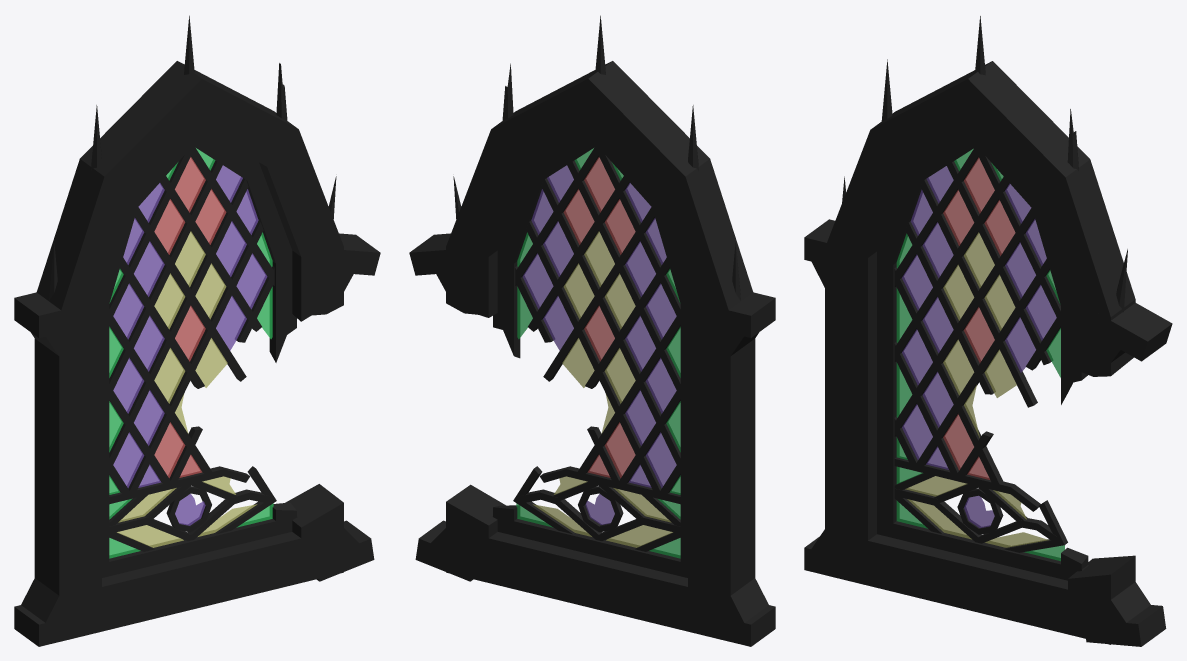
Rendered from MODEL_Environment_StainedGlassWindowBroken_Blockout_1.fbx.
The picture shows the model from 3 angles, left to right: view 1: azimuth 30°, elevation 25°; view 2: azimuth 150°, elevation 25°; view 3: azimuth 330°, elevation 25°; orthographic projection.
Visible parts, largest first — view 1: windowframe, glassframe, glass_pane82, glass_pane96, glass_pane92, glass_pane88, glass_pane87, glass_pane85, glass_pane99, glass_pane97, glass_pane93, glass_pane89 (+14 smaller); view 2: windowframe, glassframe, glass_pane82, glass_pane96, glass_pane92, glass_pane88, glass_pane87, glass_pane85, glass_pane99, glass_pane97, glass_pane93, glass_pane89 (+14 smaller); view 3: windowframe, glassframe, glass_pane79, glass_pane98, glass_pane87, glass_pane82, glass_pane80, glass_pane77, glass_pane92, glass_pane89, glass_pane86, glass_pane85 (+15 smaller).
Part boxes in pixels (<box>): windowframe: <box>14,15,380,646</box>; glassframe: <box>109,146,276,551</box>; glass_pane82: <box>195,263,226,319</box>; glass_pane96: <box>195,189,226,244</box>; glass_pane92: <box>236,253,267,309</box>; glass_pane88: <box>113,432,144,488</box>; glass_pane87: <box>154,273,185,329</box>; glass_pane85: <box>154,422,185,478</box>; glass_pane99: <box>175,231,205,287</box>; glass_pane97: <box>154,199,185,254</box>; glass_pane93: <box>113,283,144,339</box>; glass_pane89: <box>113,357,144,413</box>; windowframe: <box>409,15,775,646</box>; glassframe: <box>513,146,680,551</box>; glass_pane82: <box>563,263,594,319</box>; glass_pane96: <box>563,189,594,244</box>; glass_pane92: <box>522,253,553,309</box>; glass_pane88: <box>645,432,676,488</box>; glass_pane87: <box>604,273,635,329</box>; glass_pane85: <box>604,422,635,478</box>; glass_pane99: <box>584,231,614,287</box>; glass_pane97: <box>604,199,635,254</box>; glass_pane93: <box>645,283,676,339</box>; glass_pane89: <box>645,357,676,413</box>; windowframe: <box>804,16,1172,646</box>; glassframe: <box>894,146,1067,552</box>; glass_pane79: <box>922,222,953,278</box>; glass_pane98: <box>964,157,994,213</box>; glass_pane87: <box>943,264,974,320</box>; glass_pane82: <box>984,274,1015,330</box>; glass_pane80: <box>922,371,953,427</box>; glass_pane77: <box>1005,317,1035,372</box>; glass_pane92: <box>1025,284,1056,340</box>; glass_pane89: <box>902,329,932,385</box>; glass_pane86: <box>943,339,974,395</box>; glass_pane85: <box>943,414,973,470</box>.
Bounding box in the file's own units: 2.4 × 3.95 × 0.3.
